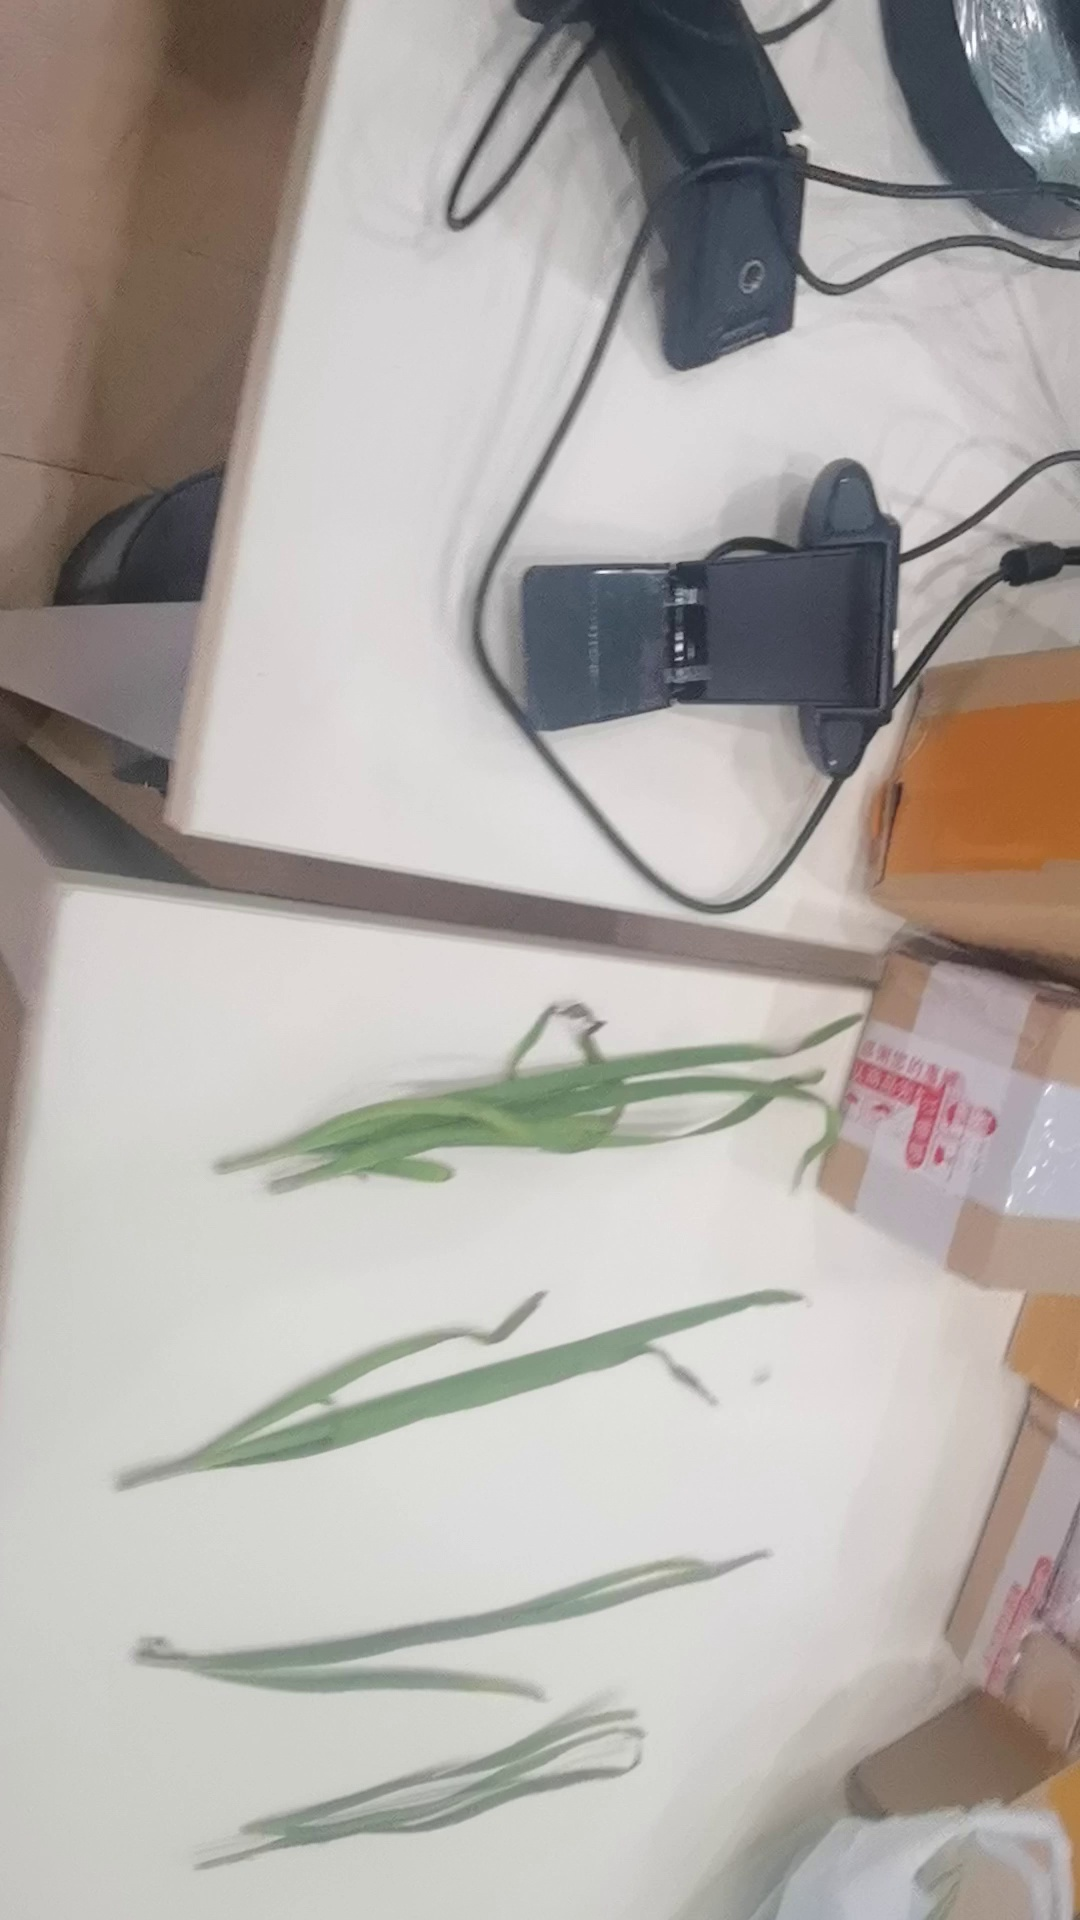chives: (80, 1261, 833, 1523), (210, 990, 891, 1196), (94, 1547, 812, 1698), (169, 1713, 745, 1888)
